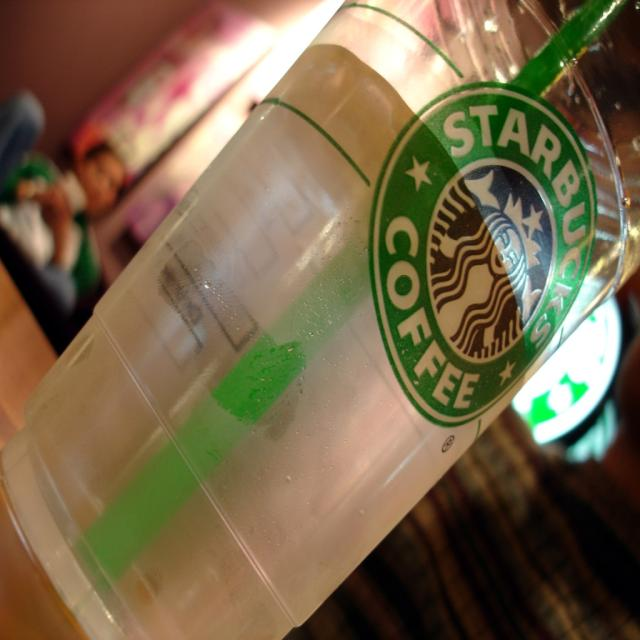starbucks: (367, 81, 599, 429)
